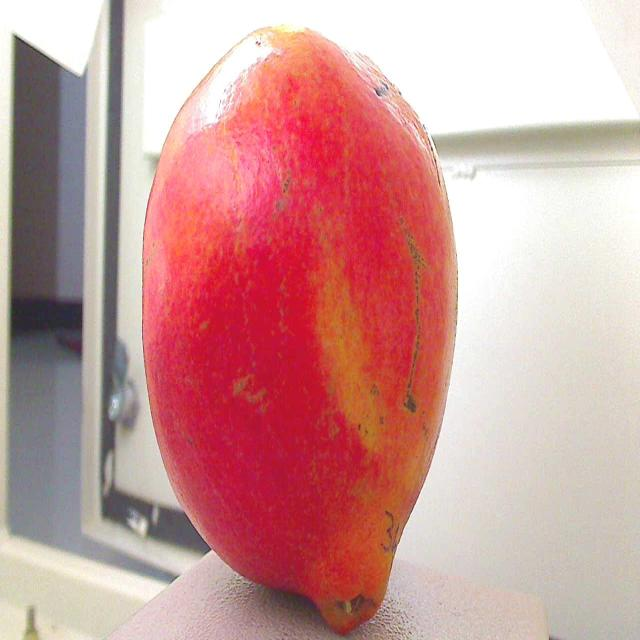pomegranate: (130, 0, 468, 640)
